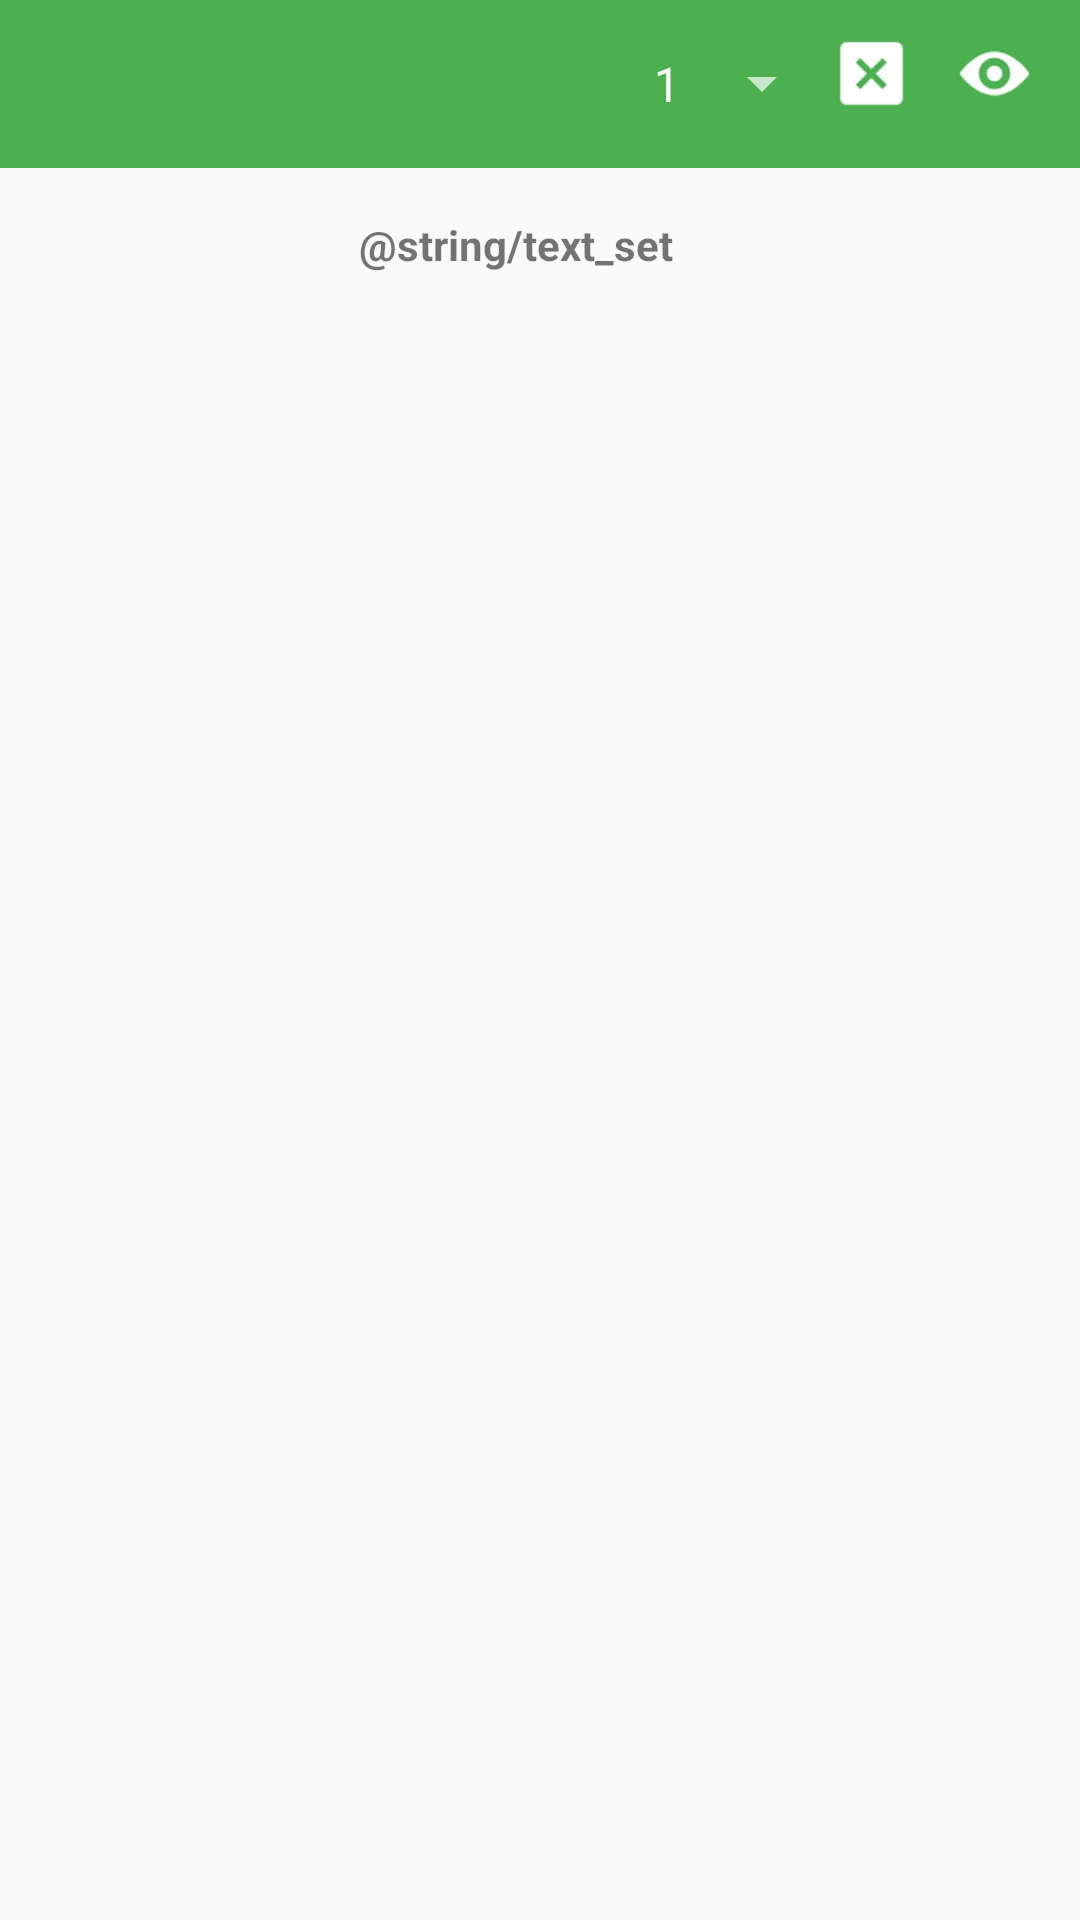

Locate icon controls on the screen. Image size 1080*1920, boxes as (x1, y1, x2, y2).
close window: (840, 42, 903, 105)
eye: (960, 51, 1030, 96)
